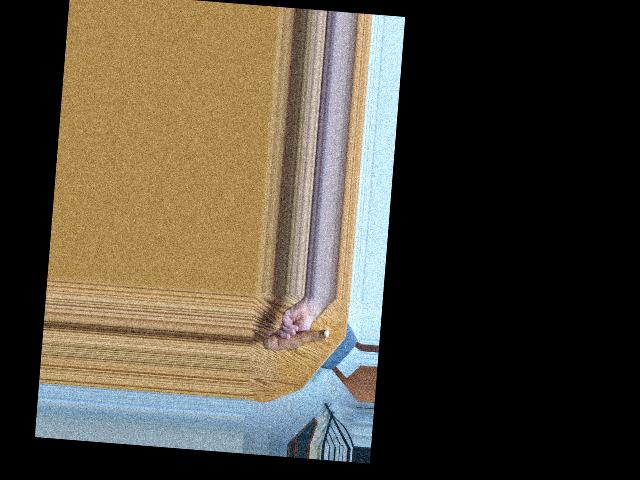sweet_potato: (265, 323, 331, 358)
